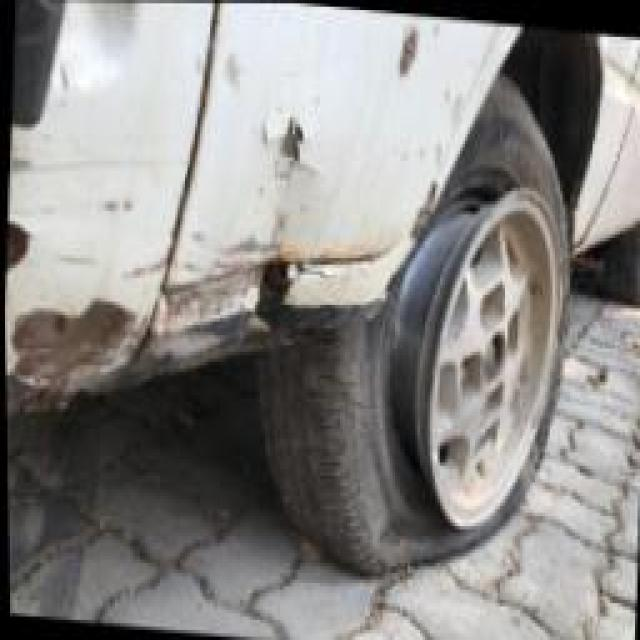Bumper: (4, 0, 220, 416)
Fender: (141, 2, 511, 352)
